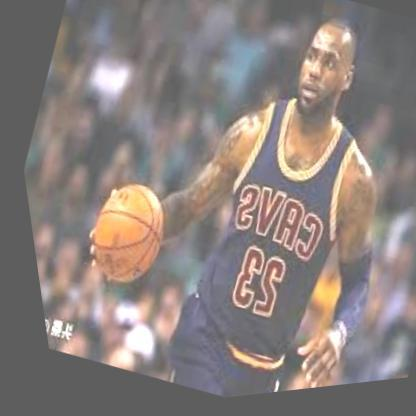basketball: (67, 175, 174, 295)
